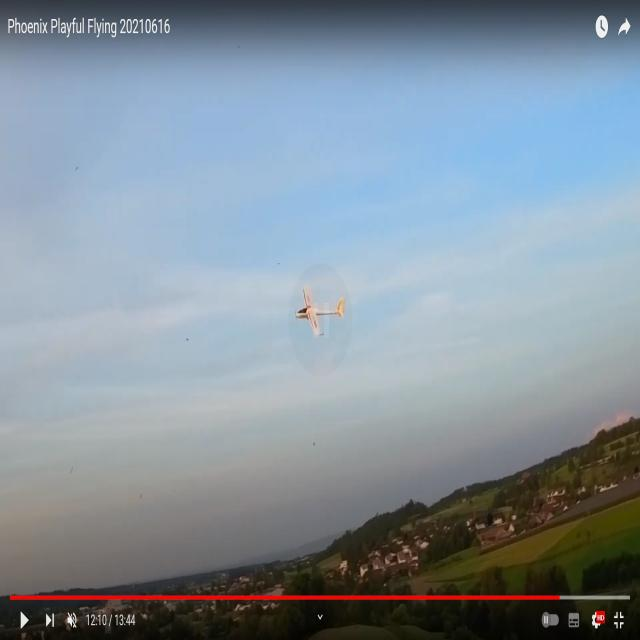iha: (300, 286, 344, 341)
